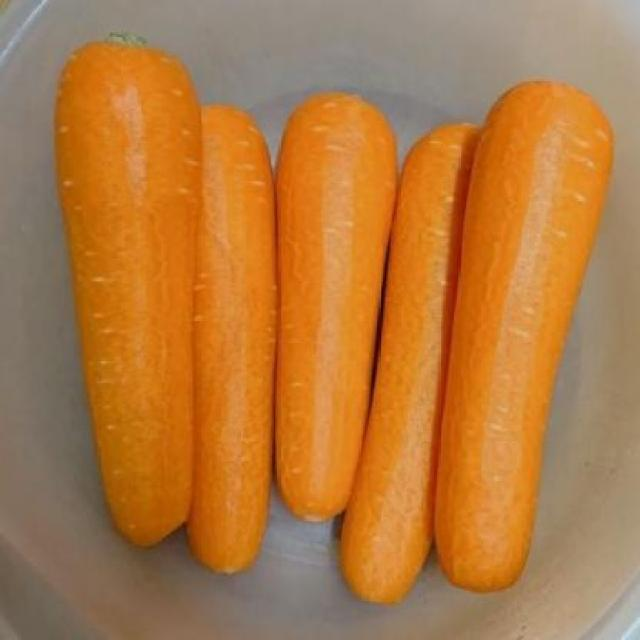carrot: (436, 76, 618, 595), (54, 27, 205, 573), (339, 121, 471, 610), (274, 90, 400, 529), (186, 103, 274, 597)
